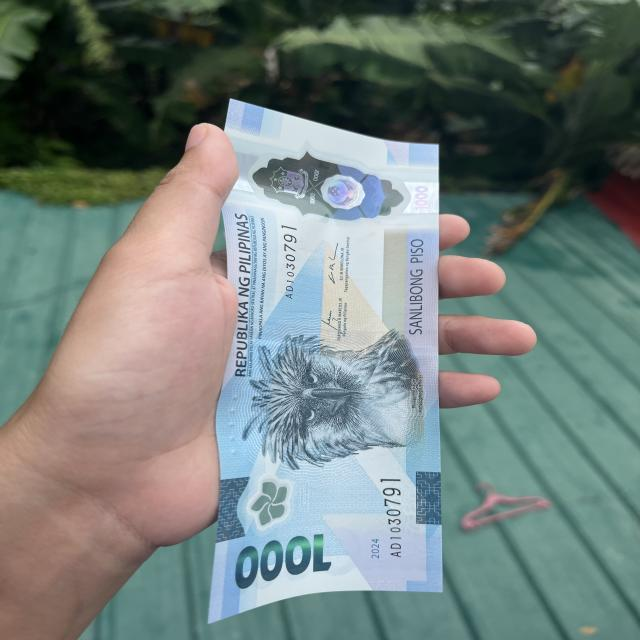clear_window: (224, 134, 452, 236)
eagle: (251, 331, 421, 458)
sampaguita: (244, 477, 318, 528)
security_thread: (229, 318, 438, 350)
serial_number: (371, 467, 412, 564), (275, 222, 299, 302)
